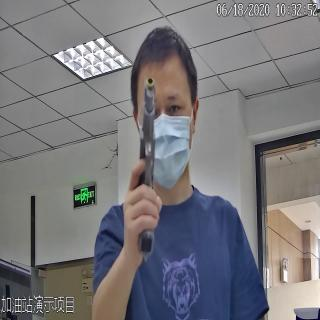gun: (134, 76, 165, 260)
